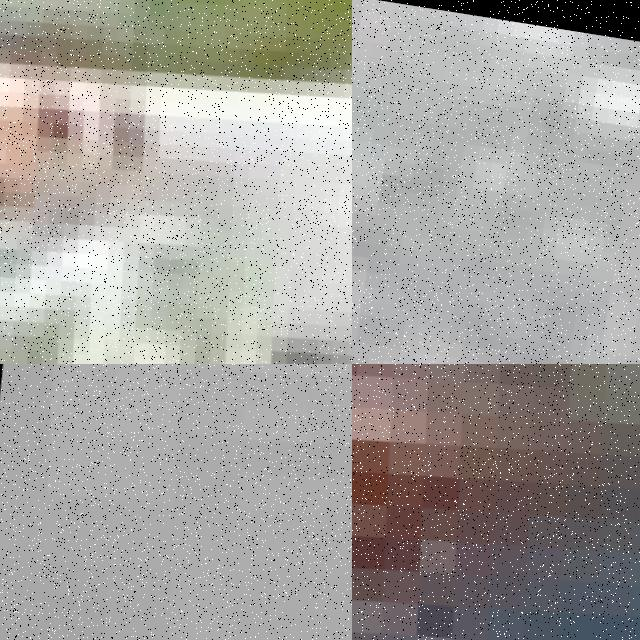0: (0, 0, 352, 364)
drone: (0, 364, 352, 640), (352, 364, 640, 640)
